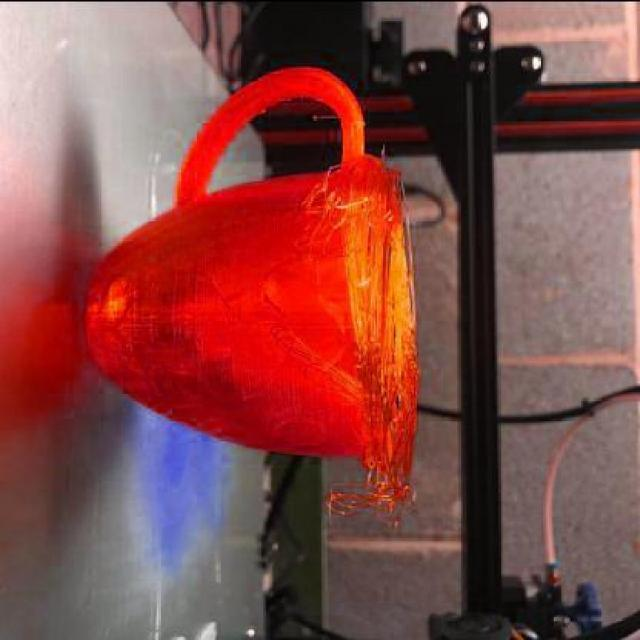spaghetti: (302, 143, 422, 528)
